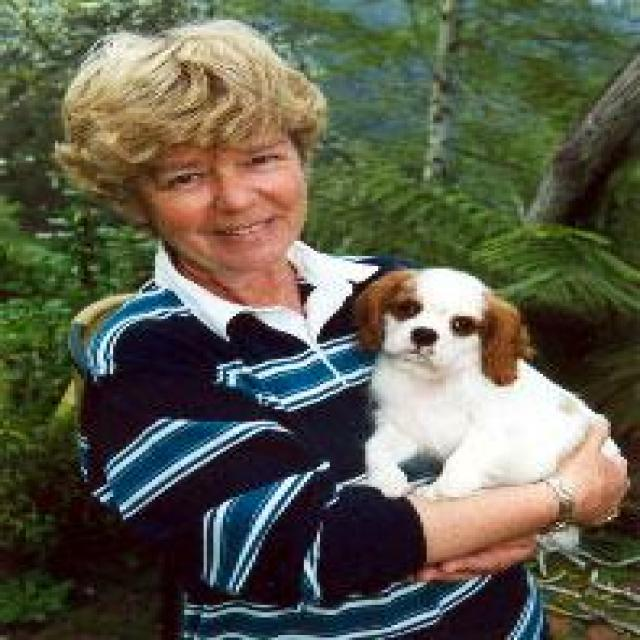blenheim_spaniel: (346, 264, 630, 558)
